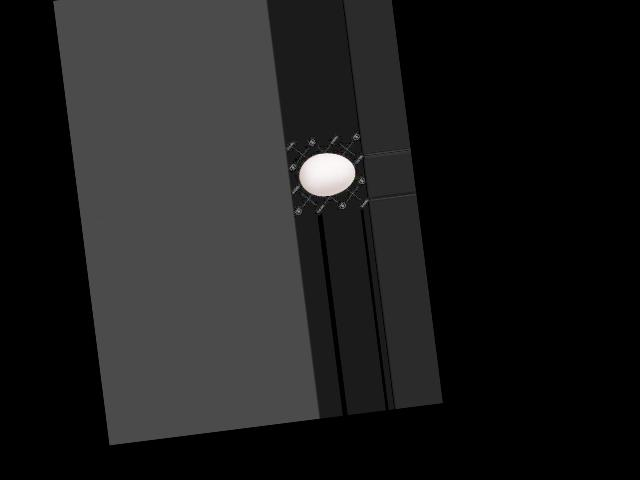egg: (296, 149, 357, 198)
